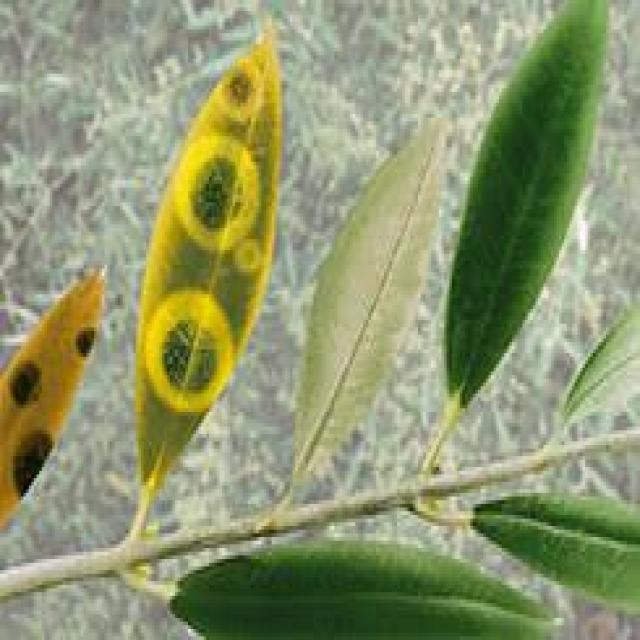OlivePeacockSpot: (128, 29, 282, 537), (0, 268, 102, 526)
